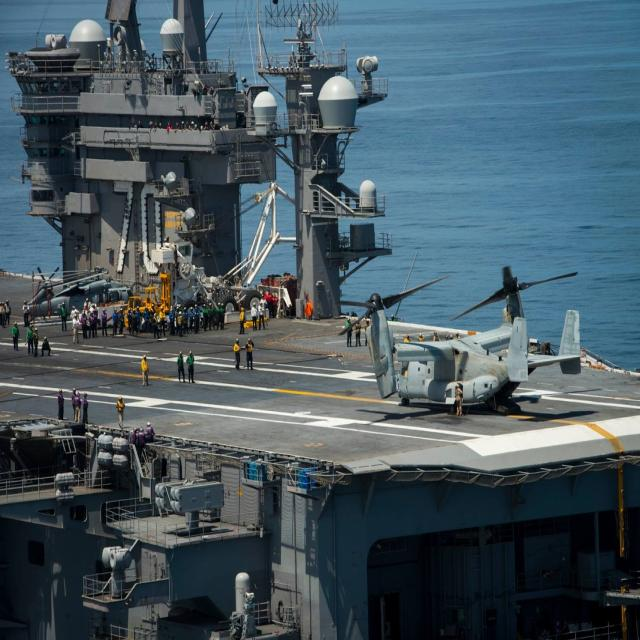Portanaves: (1, 18, 631, 640)
